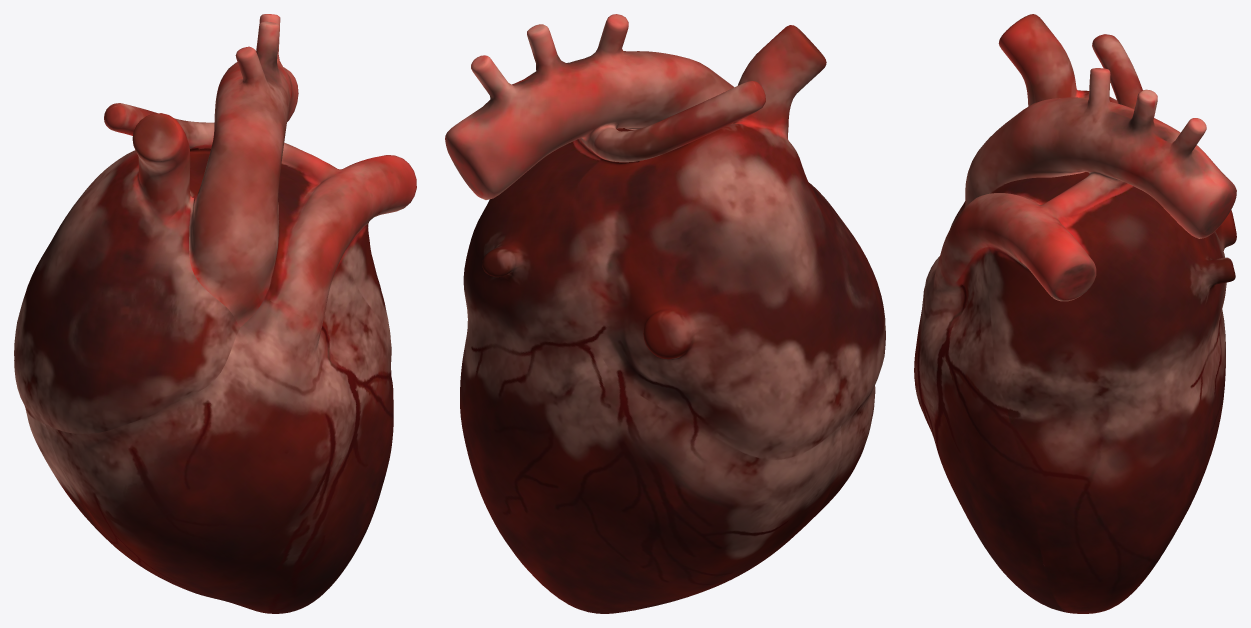
Rendered from heart.glb.
The picture shows the model from 3 angles, left to right: view 1: azimuth 30°, elevation 25°; view 2: azimuth 150°, elevation 25°; view 3: azimuth 270°, elevation 25°; orthographic projection. The views are drawn at different scales.
Visible parts, largest first — view 1: hart:ZBrush_defualt_group_Heart Tex_0; view 2: hart:ZBrush_defualt_group_Heart Tex_0; view 3: hart:ZBrush_defualt_group_Heart Tex_0.
Boxes of the visible parts, bbox=[...] form: hart:ZBrush_defualt_group_Heart Tex_0: bbox=[14, 14, 416, 613]; hart:ZBrush_defualt_group_Heart Tex_0: bbox=[445, 14, 885, 613]; hart:ZBrush_defualt_group_Heart Tex_0: bbox=[914, 14, 1236, 613].
Size of the model in its own units: 1.08 by 1.6 by 0.8802.
Materials: 1 (1 with a texture image).
